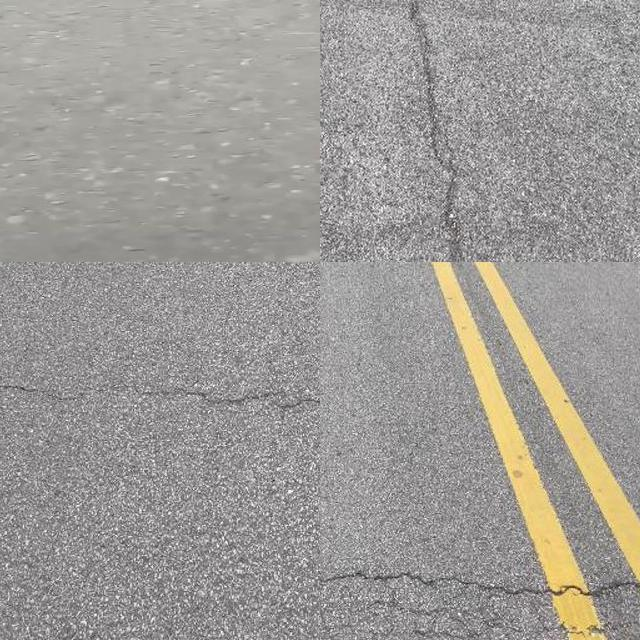Melintang: (0, 369, 320, 436), (320, 560, 640, 618)
Memanjang: (391, 0, 472, 262)
